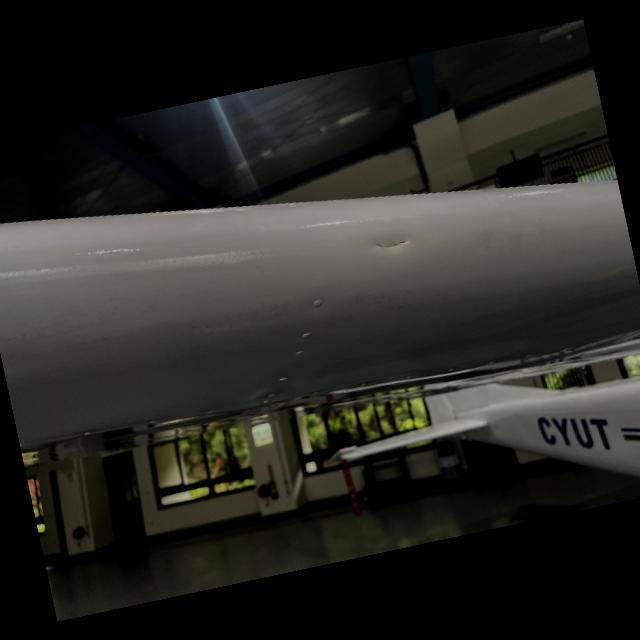dent: (348, 218, 438, 268)
